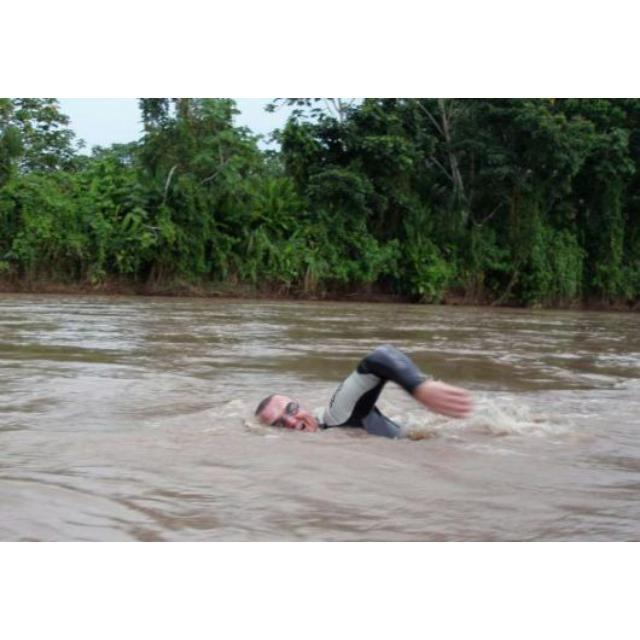human: (255, 343, 472, 451)
